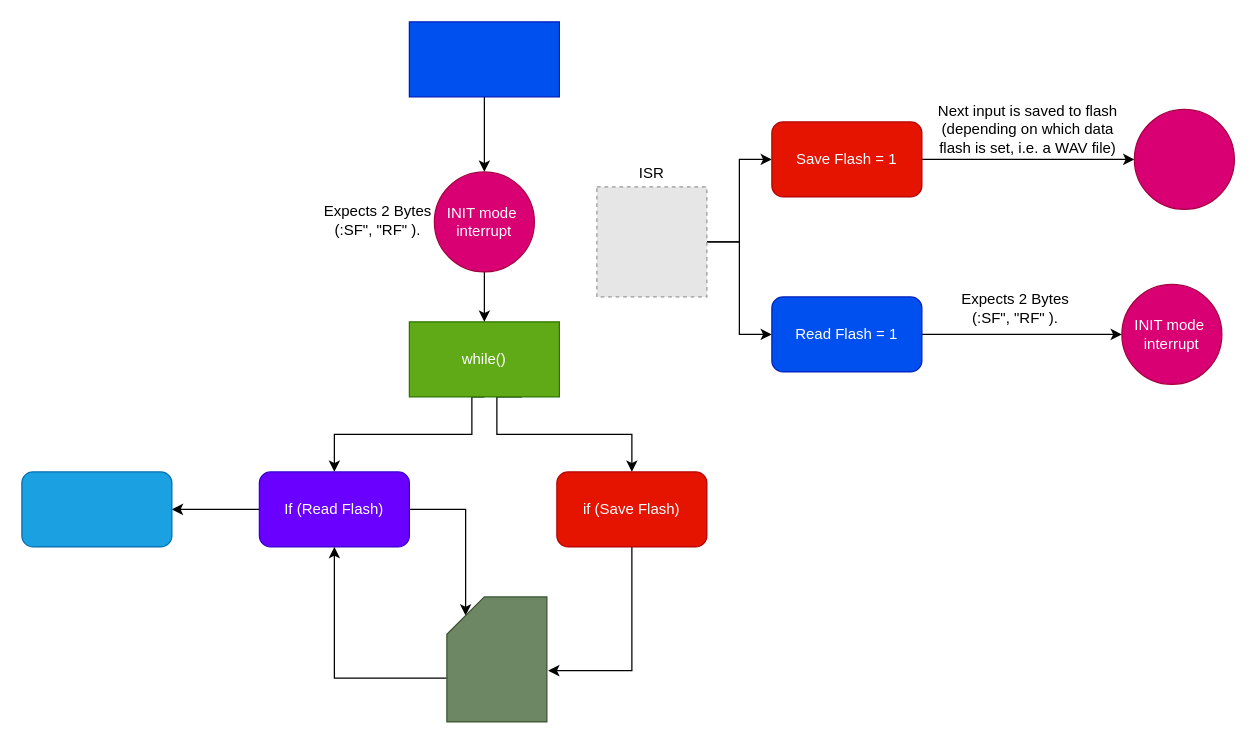
Image size: 1256x744. Some labels were removed from this diagram. Grey dashed boxes stand in for pictures. The centre of each missing label's shape, as x and y in pixels:
"INIT Data interrupt" goes at point (1183, 158).
"main()" goes at point (483, 59).
"Save Data To Flash Addr" goes at point (496, 659).
"UART TX" goes at point (96, 509).
